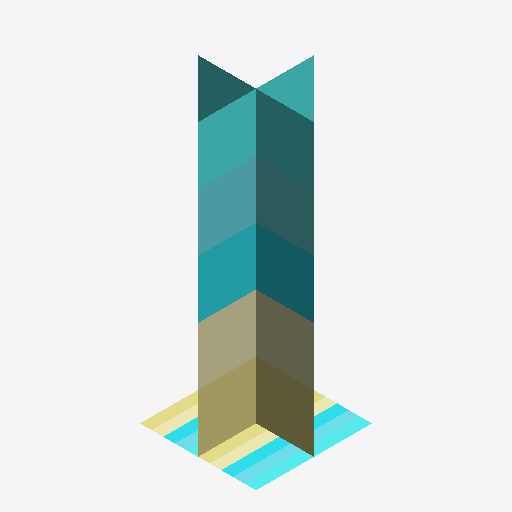
Isometric view (azimuth 45°, elevation 35.3°) of a Minecraft model made of 8 cuboids, textured from the same repository.
Visible parts, largest first — cube (×4).
Part boxes in pixels (left/top/right/bottom): cube (×4): left=140, top=55, right=371, bottom=489.
Size of the model in its own units: 4 by 5 by 4.